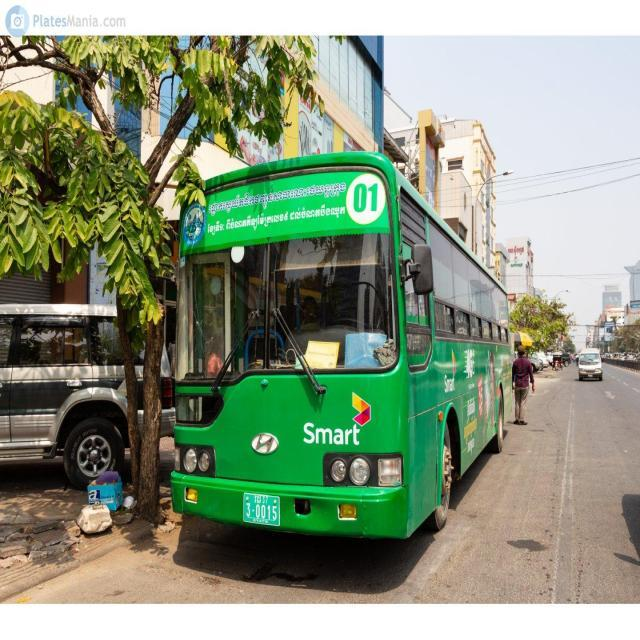State: (254, 496, 262, 504)
